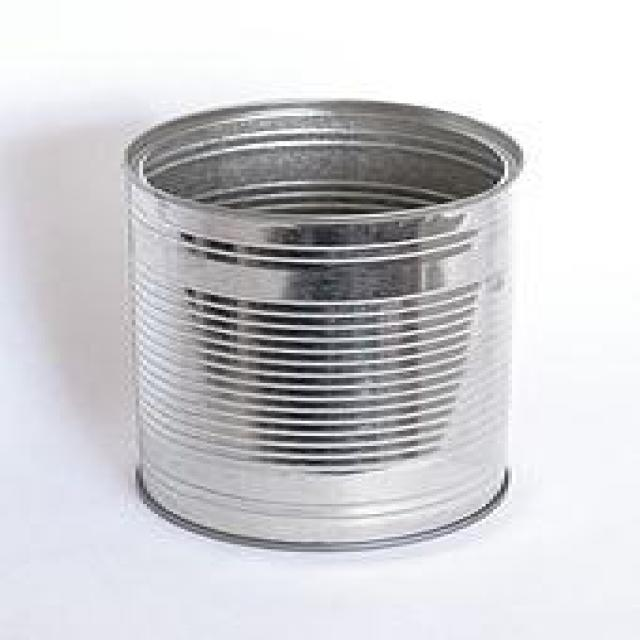metel: (84, 53, 573, 594)
